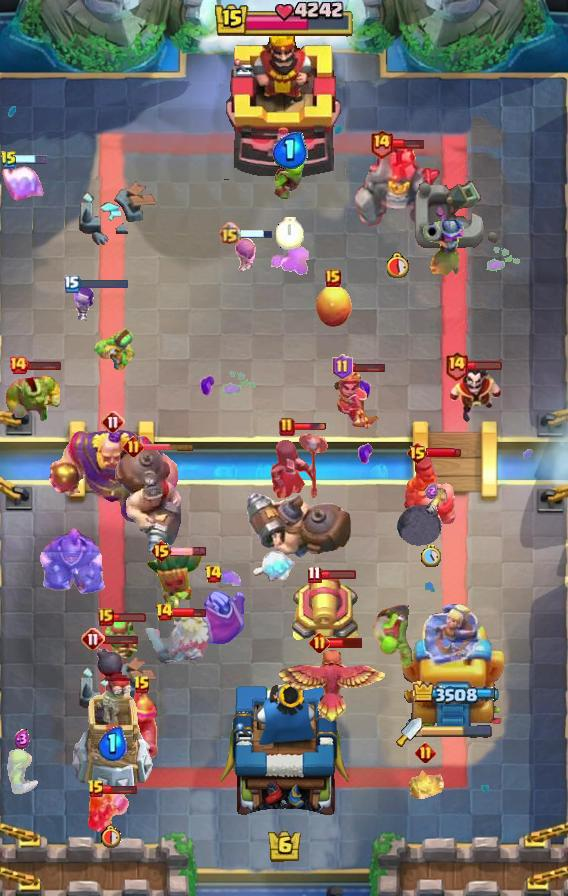bar: (77, 278, 129, 290), (141, 442, 195, 451), (327, 636, 364, 649), (171, 606, 207, 619), (103, 633, 139, 645), (426, 447, 462, 459), (26, 359, 62, 371), (12, 154, 48, 166), (103, 783, 138, 795), (320, 569, 357, 580), (170, 546, 207, 557), (466, 360, 503, 371), (111, 612, 147, 623), (391, 138, 424, 150), (351, 362, 386, 373), (238, 228, 273, 239), (293, 422, 327, 432)
bar-level: (444, 350, 469, 381), (369, 128, 394, 159), (81, 627, 105, 651), (101, 410, 125, 434), (150, 539, 173, 563), (406, 441, 429, 465), (332, 354, 353, 380), (218, 222, 241, 245), (415, 742, 436, 763), (309, 632, 330, 653), (123, 436, 144, 457), (8, 355, 28, 375), (155, 602, 174, 622), (204, 564, 223, 584), (87, 779, 105, 799), (133, 675, 151, 695), (0, 150, 18, 170), (279, 417, 295, 437), (98, 608, 114, 626), (64, 275, 80, 293), (325, 269, 341, 287), (307, 565, 322, 584)
bomb: (396, 486, 447, 548)
clock: (276, 217, 304, 250), (387, 252, 410, 278), (101, 824, 123, 848), (421, 545, 441, 567)
dagger-duchess-tower: (398, 595, 508, 731)
dagger-duchess-tower-bar: (422, 725, 492, 739)
dart-goblin: (145, 549, 205, 625)
electro-wizard: (447, 365, 503, 425)
elixir: (273, 132, 308, 169), (97, 726, 127, 761), (14, 729, 30, 750), (425, 483, 438, 499)
goblin: (1, 740, 43, 798), (273, 159, 307, 203)
goblin-ball: (371, 605, 421, 671)
goblin-brawler: (4, 369, 64, 423)
ice-spirit: (252, 550, 296, 584)
ice-spirit-evolution: (0, 163, 46, 205)
king-tower: (220, 678, 349, 826), (224, 29, 344, 181)
king-tower-bar: (213, 0, 355, 40)
lava-pup: (404, 767, 446, 803)
little-prince: (331, 367, 380, 433)
musketeer: (122, 684, 162, 760), (423, 220, 465, 276)
night-witch: (269, 430, 329, 502)
phoenix-egg: (314, 281, 352, 329)
ram-rider: (401, 454, 461, 528)
royal-ghost: (143, 609, 211, 677)
skeleton-evolution: (68, 285, 99, 321), (232, 235, 259, 273)
spear-goblin: (94, 328, 142, 372), (102, 616, 138, 658)
tower-bar: (411, 681, 495, 705)
valkyrie: (87, 791, 131, 839)
